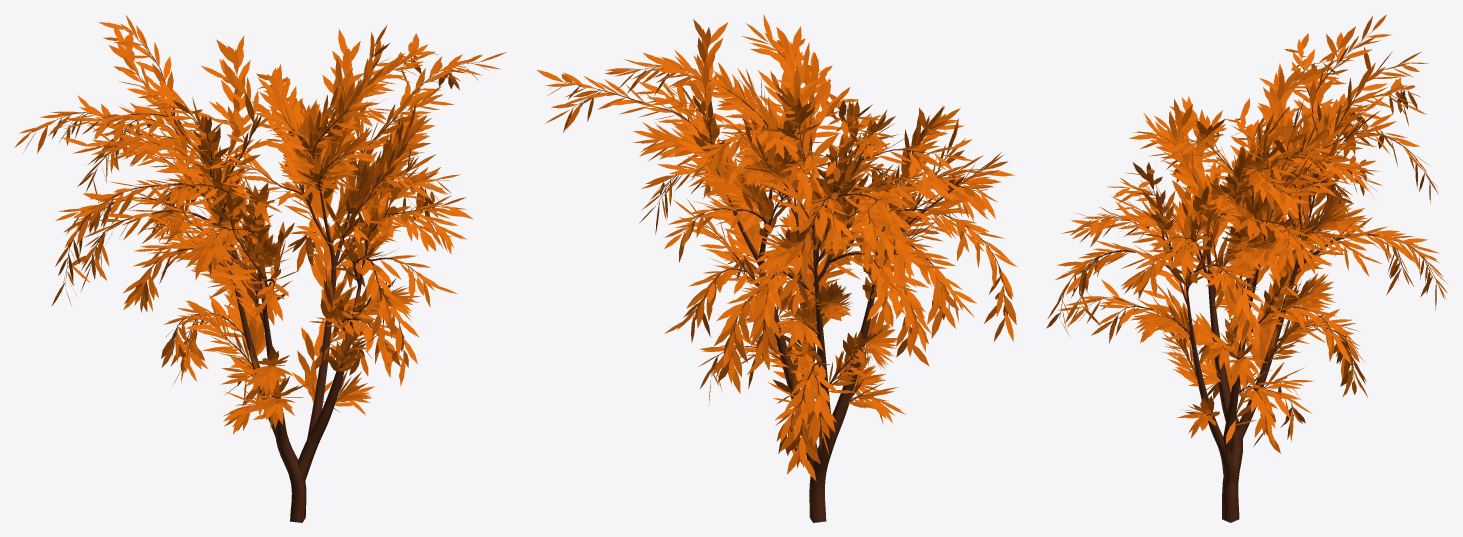
The model's file is boom1.fbx.
The picture shows the model from 3 angles, left to right: view 1: azimuth 30°, elevation 25°; view 2: azimuth 150°, elevation 25°; view 3: azimuth 270°, elevation 25°; orthographic projection. The views are drawn at different scales.
Visible parts, largest first — view 1: leaves, tree; view 2: leaves, tree; view 3: leaves, tree.
Part boxes in pixels (x1,y1,x2,y2): leaves: [14, 14, 506, 434]; tree: [32, 30, 483, 522]; leaves: [537, 14, 1016, 481]; tree: [560, 43, 1005, 522]; leaves: [1046, 14, 1447, 453]; tree: [1059, 32, 1436, 522].
Size of the model in its own units: 6.38 by 6.37 by 5.08.
